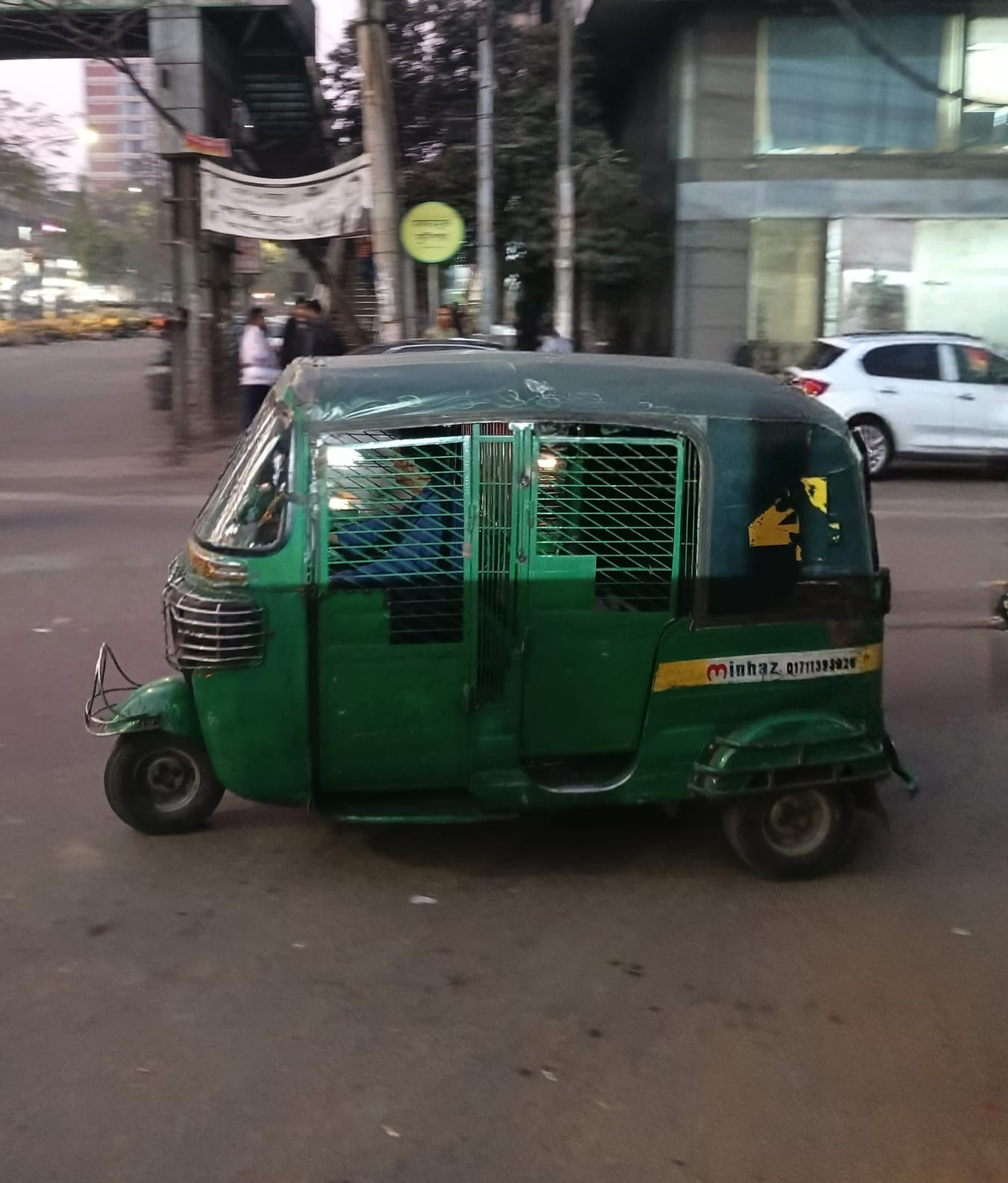cng: (65, 307, 951, 914)
private car: (762, 299, 1008, 484)
